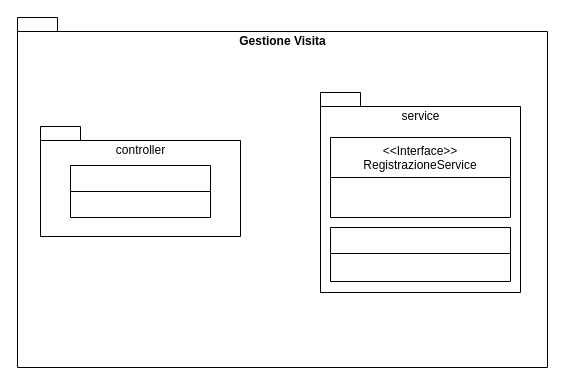
This 565x385 diagram has some shape labels left out. The shapes that lost their labels are listed below. From the top down, each one's centre as x and y in pixels, then its label:
(140,191): GestioneVisitaController
(420,254): RegistrazioneServiceImpl
